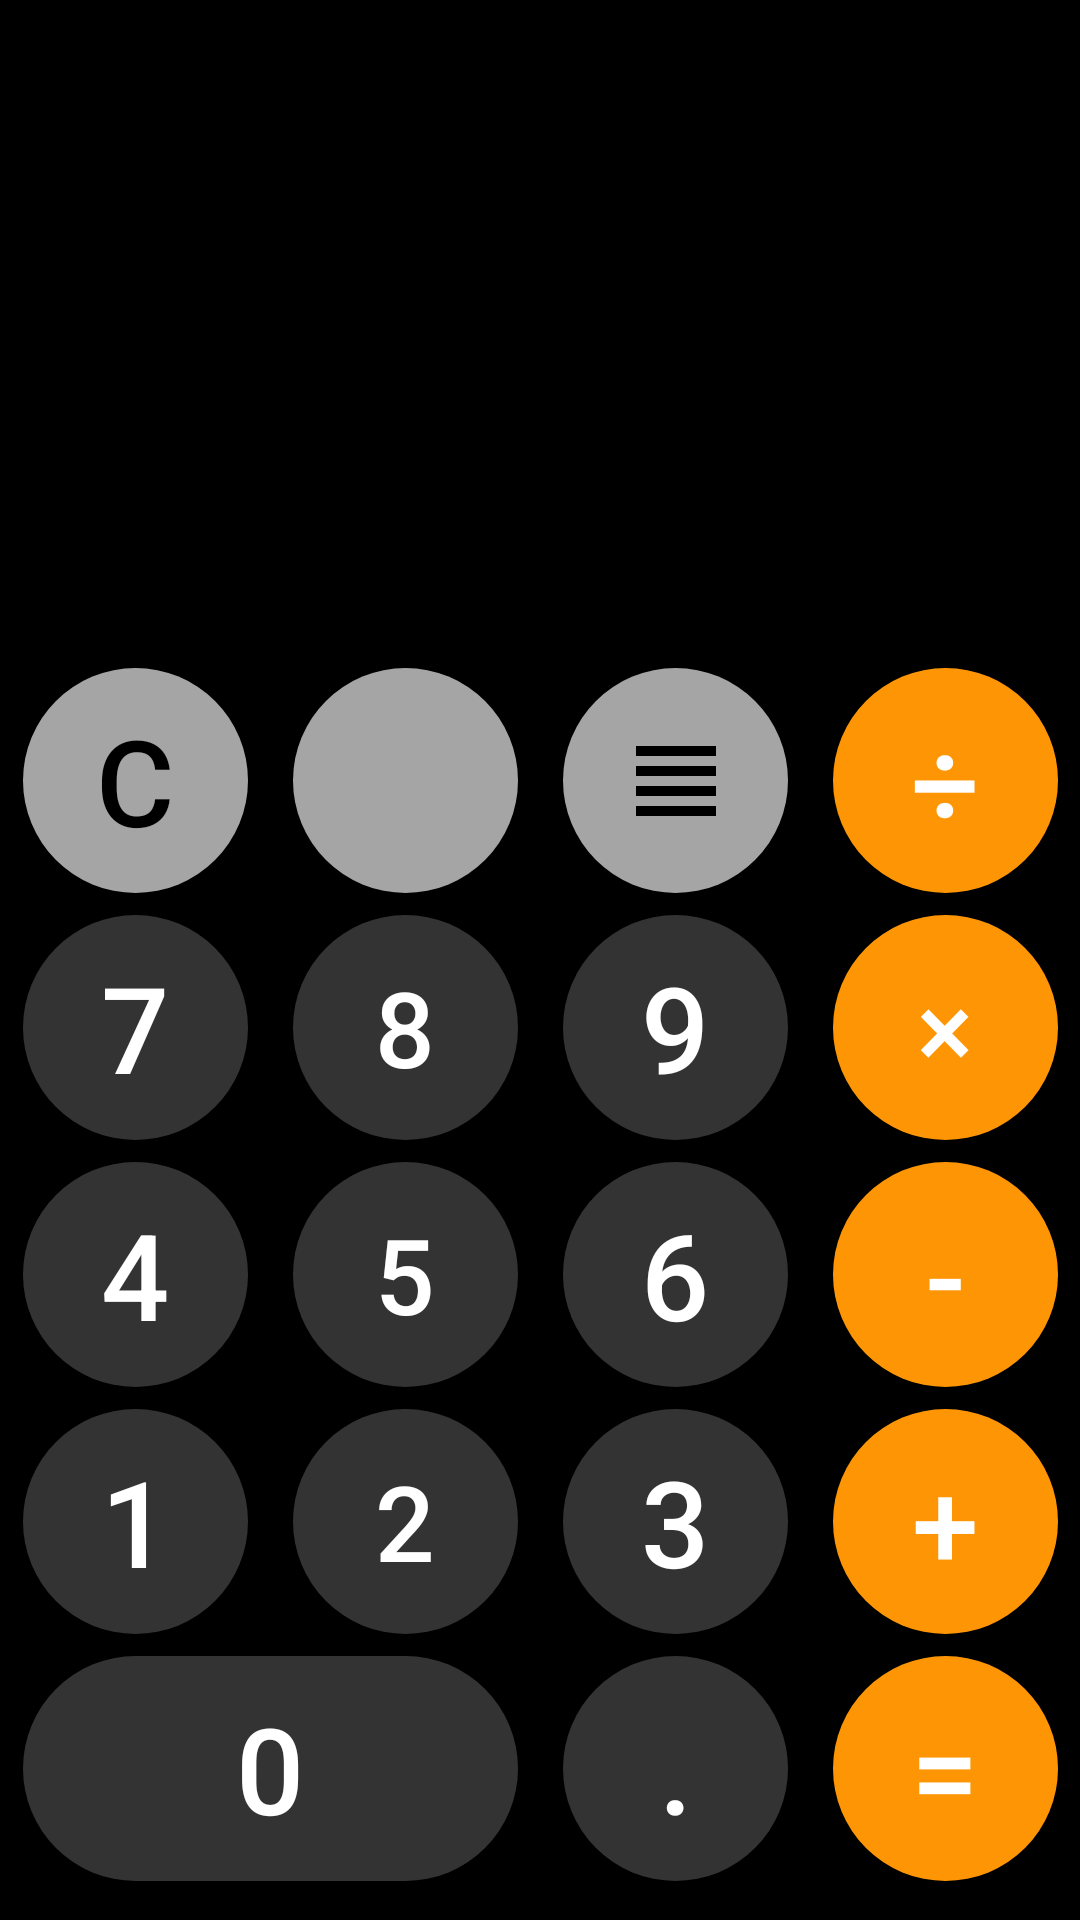

Icon bounding boxes for this 1080×1920 phone screenshot, format (x1=x1, y1=y1, x2=x2, y2=y2):
view headline: (x1=563, y1=668, x2=788, y2=893)
